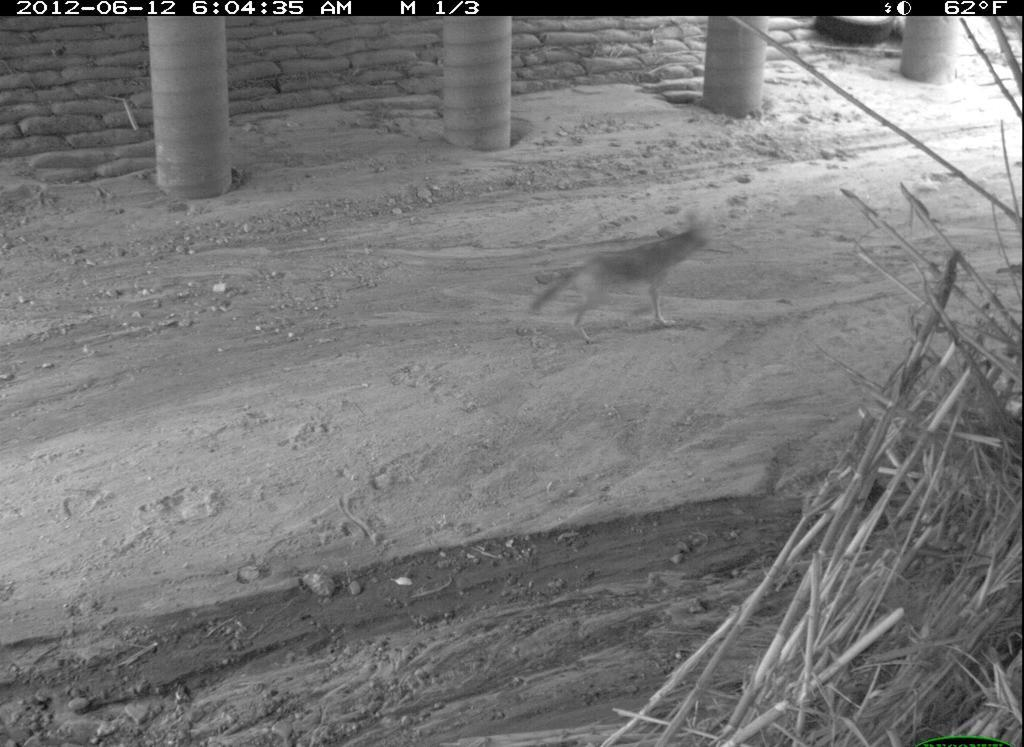coyote: (533, 216, 722, 353)
